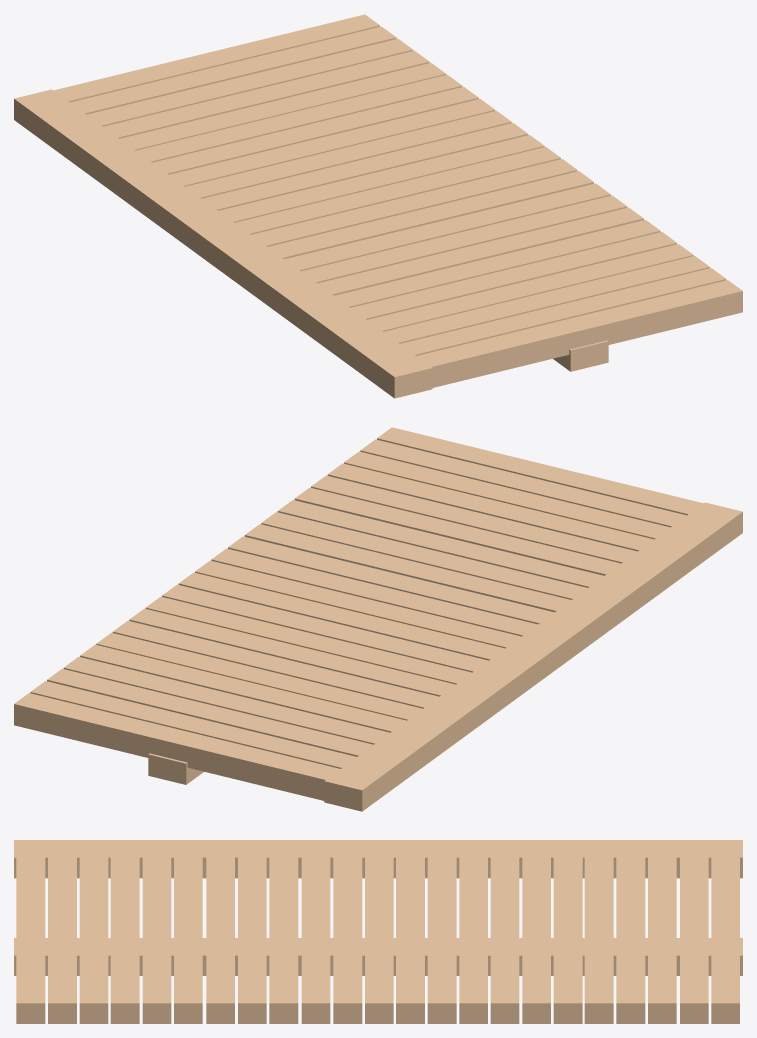
Rendered from San2.fbx.
3 views of the same model, one above another, from view 1: azimuth 30°, elevation 25°; view 2: azimuth 150°, elevation 25°; view 3: azimuth 270°, elevation 25° (orthographic). The views are drawn at different scales.
Parts seen in each view (by area): view 1: Cube.022, Cube.021, Cube.008, Cube.009, Cube.025, Cube.018, Cube.012, Cube.011, Cube.017, Cube.005, Cube.006, Cube.001 (+13 smaller); view 2: Cube.022, Cube.024, Cube.004, Cube.007, Cube.019, Cube.015, Cube.009, Cube.003, Cube.021, Cube.020, Cube.008, Cube.014 (+13 smaller); view 3: Cube.022, Cube.011, Cube.018, Cube.021, Cube.002, Cube.003, Cube.007, Cube.009, Cube.012, Cube.016, Cube.015, Cube.020 (+13 smaller).
Part boxes in pixels (<box>): Cube.022: <box>14,89,432,398</box>; Cube.021: <box>416,280,742,387</box>; Cube.008: <box>316,207,643,295</box>; Cube.009: <box>266,171,593,259</box>; Cube.025: <box>70,26,396,114</box>; Cube.018: <box>101,50,429,138</box>; Cube.012: <box>200,123,528,210</box>; Cube.011: <box>251,159,577,246</box>; Cube.017: <box>150,86,478,174</box>; Cube.005: <box>351,232,676,319</box>; Cube.006: <box>299,195,627,283</box>; Cube.001: <box>400,268,726,355</box>; Cube.022: <box>324,502,742,811</box>; Cube.024: <box>14,693,340,800</box>; Cube.004: <box>294,487,621,575</box>; Cube.007: <box>244,524,571,612</box>; Cube.019: <box>47,668,373,756</box>; Cube.015: <box>129,608,455,696</box>; Cube.009: <box>228,536,554,624</box>; Cube.003: <box>327,463,654,551</box>; Cube.021: <box>377,427,703,515</box>; Cube.020: <box>80,644,406,732</box>; Cube.008: <box>277,500,605,587</box>; Cube.014: <box>178,572,504,660</box>; Cube.022: <box>14,840,742,878</box>; Cube.011: <box>333,857,362,1023</box>; Cube.018: <box>616,857,645,1023</box>; Cube.021: <box>16,857,45,1023</box>; Cube.002: <box>79,857,108,1023</box>; Cube.003: <box>110,857,139,1023</box>; Cube.007: <box>269,857,298,1023</box>; Cube.009: <box>301,857,330,1023</box>; Cube.012: <box>427,857,456,1023</box>; Cube.016: <box>553,857,582,1023</box>; Cube.015: <box>490,857,519,1023</box>; Cube.020: <box>584,857,613,1023</box>.
Size of the model in its own units: 6.22 by 0.6391 by 11.73.
